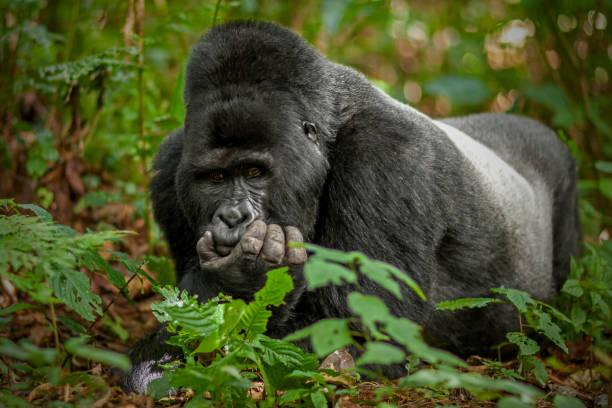goriile_montagne: (136, 2, 594, 351)
